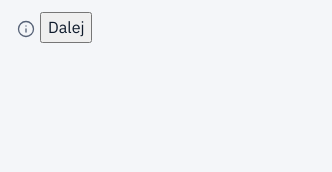
Test case: Tooltip › opens on hover and closes when the pointer leaves
Hover over the button named "Więcej o cenie biletu" at (26, 29), box 12,15 -> 40,43
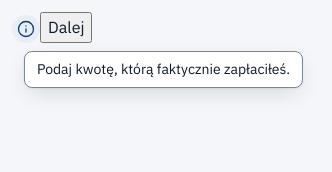
Now the tooltip "Podaj kwotę, którą faktycznie zapłaciłeś." is shown, box 24,51 -> 303,88
Now the tooltip reads "Podaj kwotę, którą faktycznie zapłaciłeś.", box 37,60 -> 290,78
Move the pointer off the button named "Więcej o cenie biletu", box 12,15 -> 40,43
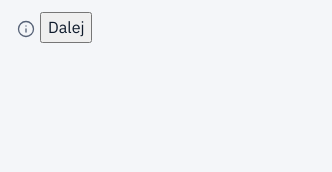
Now the tooltip "Podaj kwotę, którą faktycznie zapłaciłeś." is gone
